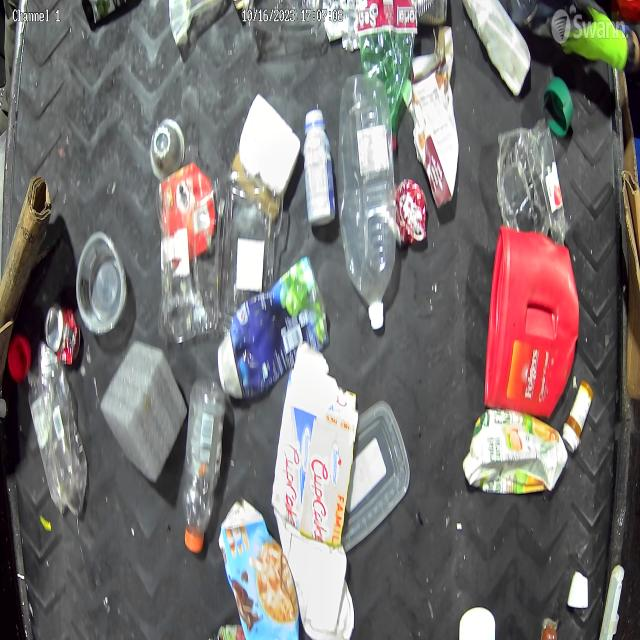can: (39, 298, 83, 363)
non_white_jug: (223, 253, 333, 401), (490, 226, 580, 406)
plastic_bottle: (342, 70, 400, 328), (28, 356, 88, 508), (184, 376, 224, 552)
